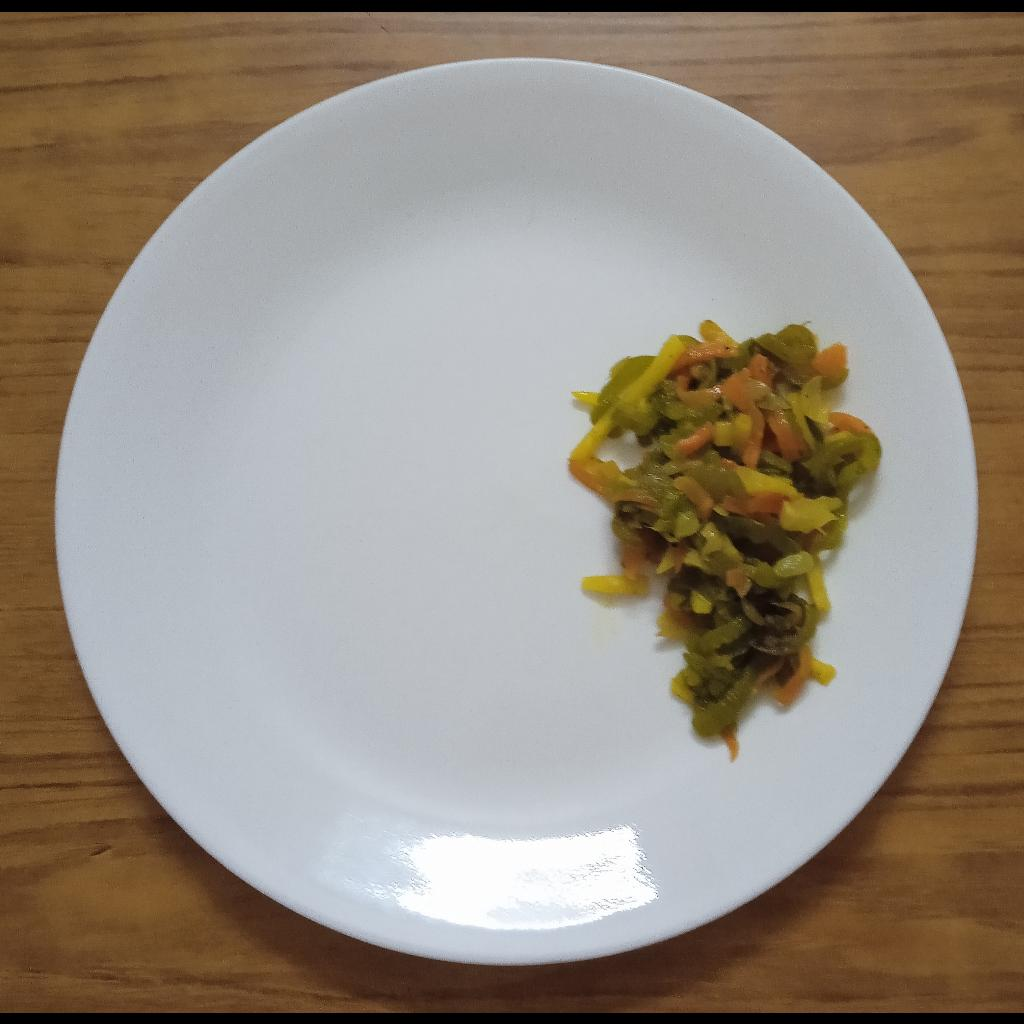vegetable: (568, 316, 886, 743)
